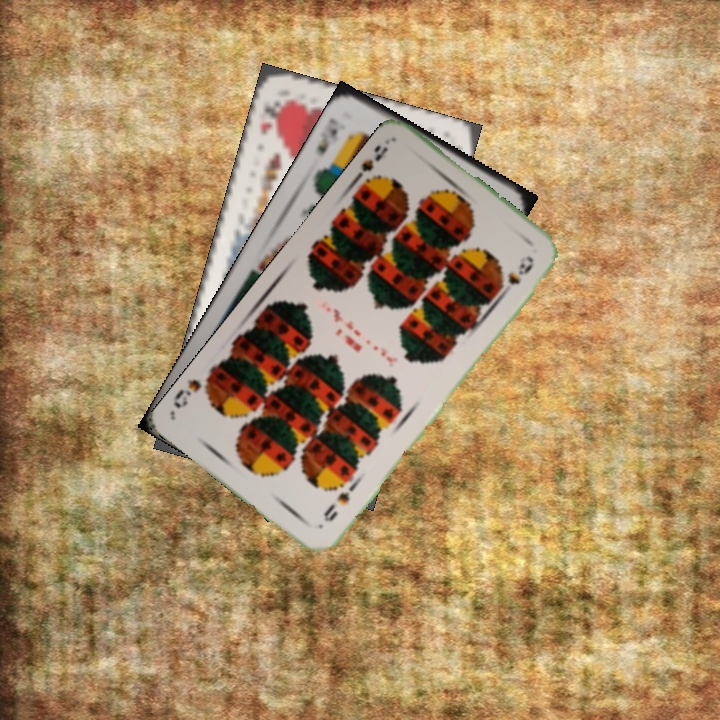EK: (313, 113, 341, 160)
HK: (255, 96, 283, 139)
S9: (348, 140, 391, 192), (319, 477, 358, 524)
